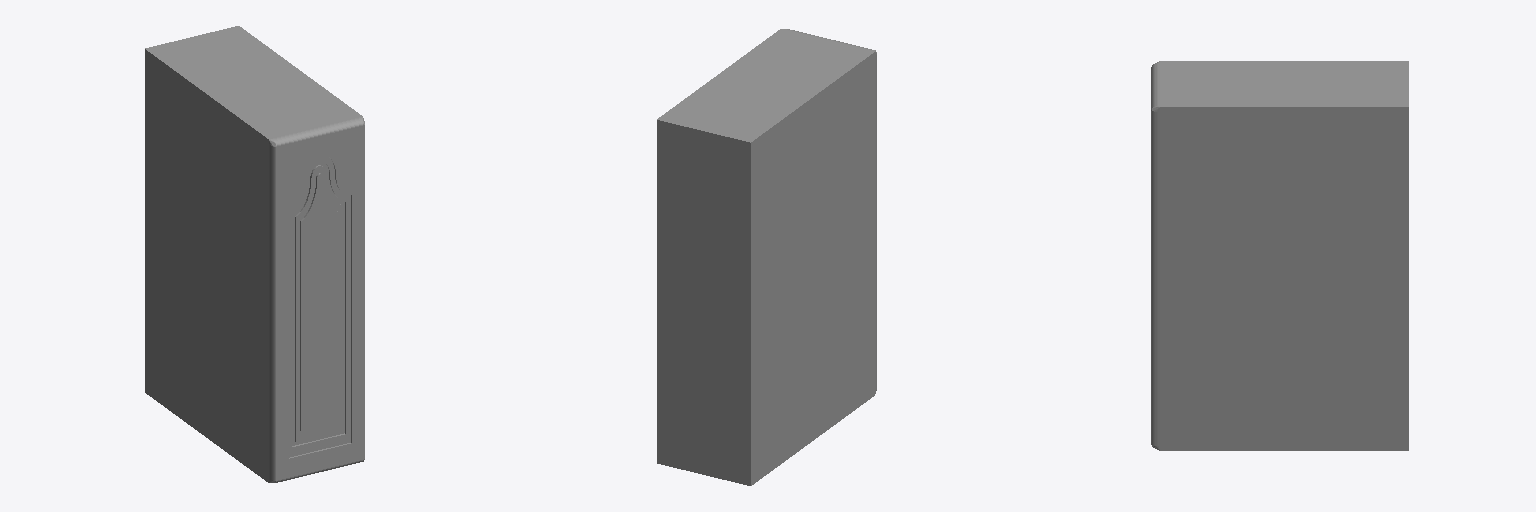
File: single-base-unit-250.obj
3 views of the same model, side by side, from view 1: azimuth 30°, elevation 25°; view 2: azimuth 150°, elevation 25°; view 3: azimuth 270°, elevation 25° (orthographic).
Visible parts, largest first — view 1: Cube.002_Cube.004, Cube.003_Cube.008, Cube_Cube.002, Cube.001_Cube.003; view 2: Cube.002_Cube.004, Cube_Cube.002, Cube.001_Cube.003, Cube.003_Cube.008; view 3: Cube.001_Cube.003, Cube_Cube.002, Cube.003_Cube.008, Cube.002_Cube.004.
Part boxes in pixels (x1,y1,x2,y2): Cube.002_Cube.004: (145, 47, 273, 482); Cube.003_Cube.008: (269, 117, 364, 482); Cube_Cube.002: (151, 27, 356, 137); Cube.001_Cube.003: (234, 26, 362, 117); Cube.002_Cube.004: (745, 50, 874, 485); Cube_Cube.002: (662, 30, 868, 484); Cube.001_Cube.003: (657, 29, 785, 464); Cube.003_Cube.008: (784, 29, 876, 393); Cube.001_Cube.003: (1160, 104, 1408, 450); Cube_Cube.002: (1160, 64, 1408, 103); Cube.003_Cube.008: (1151, 61, 1159, 450); Cube.002_Cube.004: (1160, 61, 1408, 63).
Size of the model in its own units: 50 by 174 by 118.